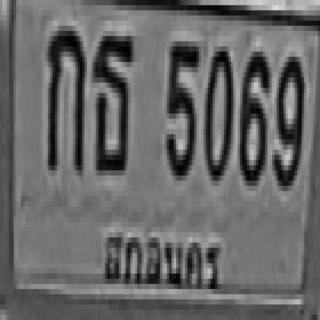A01: (46, 21, 82, 165)
A24: (91, 31, 133, 170)
N00: (204, 41, 231, 176)
N05: (164, 36, 197, 175)
N06: (238, 46, 267, 181)
N09: (272, 52, 302, 186)
P56: (99, 215, 228, 300)
